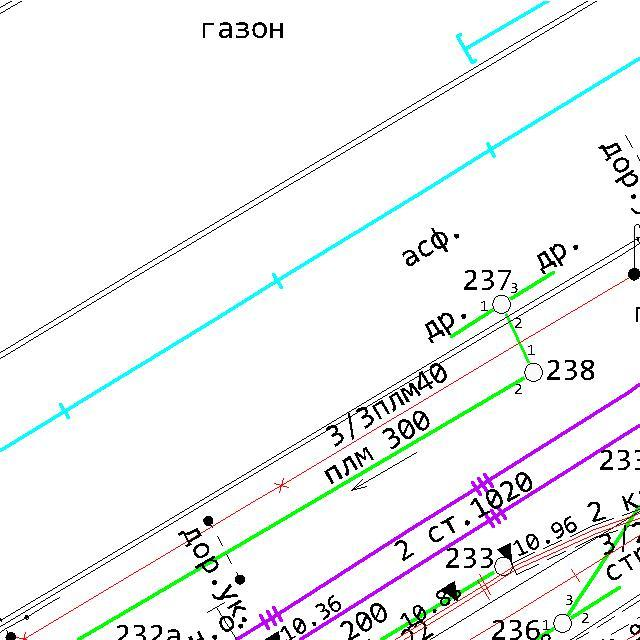asphalt: (402, 226, 461, 269)
mark: (441, 579, 459, 603), (497, 542, 514, 564)
well: (490, 292, 513, 318), (521, 361, 545, 384), (551, 611, 574, 635), (492, 555, 515, 578)
